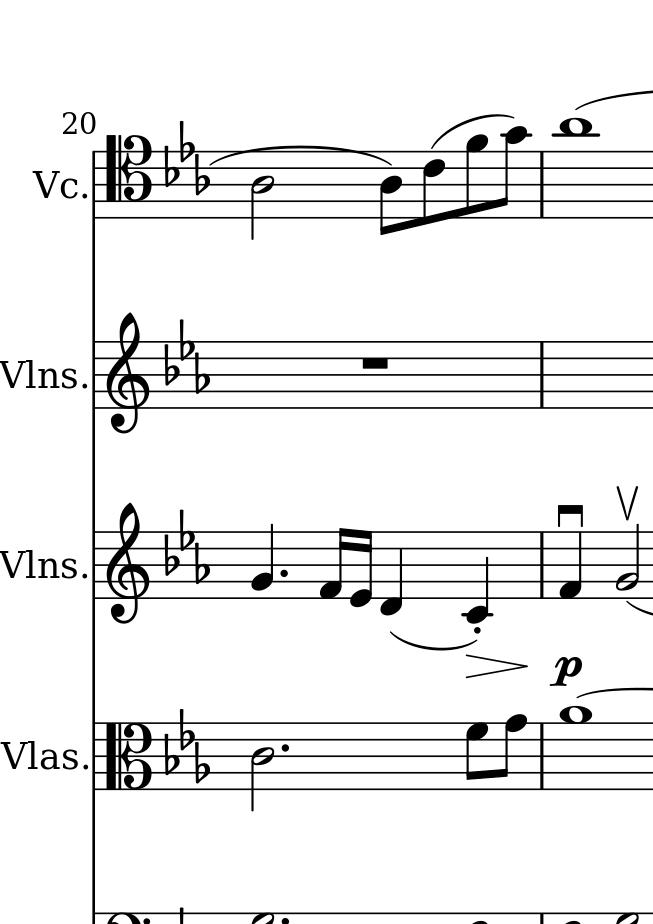0: (78, 110, 96, 135)
16_0: (350, 529, 373, 606)
16_1: (319, 528, 350, 599)
1_11: (554, 118, 596, 219)
1_9: (558, 705, 595, 792)
2: (59, 110, 81, 135)
2_2: (615, 522, 640, 600)
2_4: (248, 720, 275, 811), (249, 150, 274, 241)
4_-1: (377, 529, 404, 617)
4_-2: (464, 529, 492, 624)
4_1: (558, 530, 584, 600)
4_2: (249, 521, 275, 599)
8_10: (494, 126, 532, 219)
8_4: (378, 150, 403, 236)
8_6: (421, 150, 447, 226)
8_7: (465, 722, 489, 791)
8_8: (497, 713, 528, 791)
8_9: (464, 133, 490, 219)
Cclef: (103, 721, 154, 791)
Double_barline: (464, 654, 528, 679)
Down_bow: (556, 502, 585, 528)
E_F: (162, 509, 212, 583), (163, 709, 211, 784), (164, 122, 211, 196), (164, 317, 209, 394)
Gclef: (104, 500, 149, 626), (105, 312, 151, 434)
Rests1: (355, 352, 395, 374)
Single_barline: (533, 722, 550, 790), (86, 723, 102, 792), (534, 531, 550, 597), (87, 530, 102, 600), (87, 341, 102, 411), (534, 341, 549, 409), (87, 151, 101, 217), (535, 152, 549, 218)
Slur: (209, 143, 394, 166), (430, 112, 515, 155), (390, 630, 481, 652)
Tensor_Cclef: (100, 134, 152, 220)
Tremolo_bar: (615, 484, 641, 520)
Vc: (32, 167, 81, 200)
Vla: (1, 734, 60, 778)
Vln: (1, 543, 60, 590), (1, 353, 57, 397)
dot: (278, 741, 292, 755), (278, 565, 291, 579), (472, 624, 484, 637)
p: (549, 652, 586, 689)
